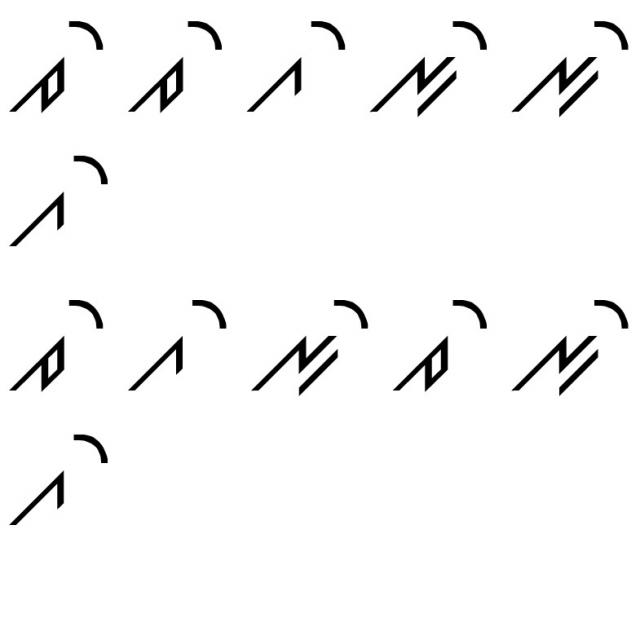gay: (129, 288, 238, 408), (7, 143, 112, 252), (5, 423, 109, 530), (249, 18, 349, 119)
ngay: (506, 288, 632, 403), (249, 287, 371, 400), (368, 14, 495, 122), (507, 18, 633, 125)
tay: (6, 287, 107, 399), (126, 12, 227, 124), (7, 12, 110, 119), (393, 288, 489, 401)
